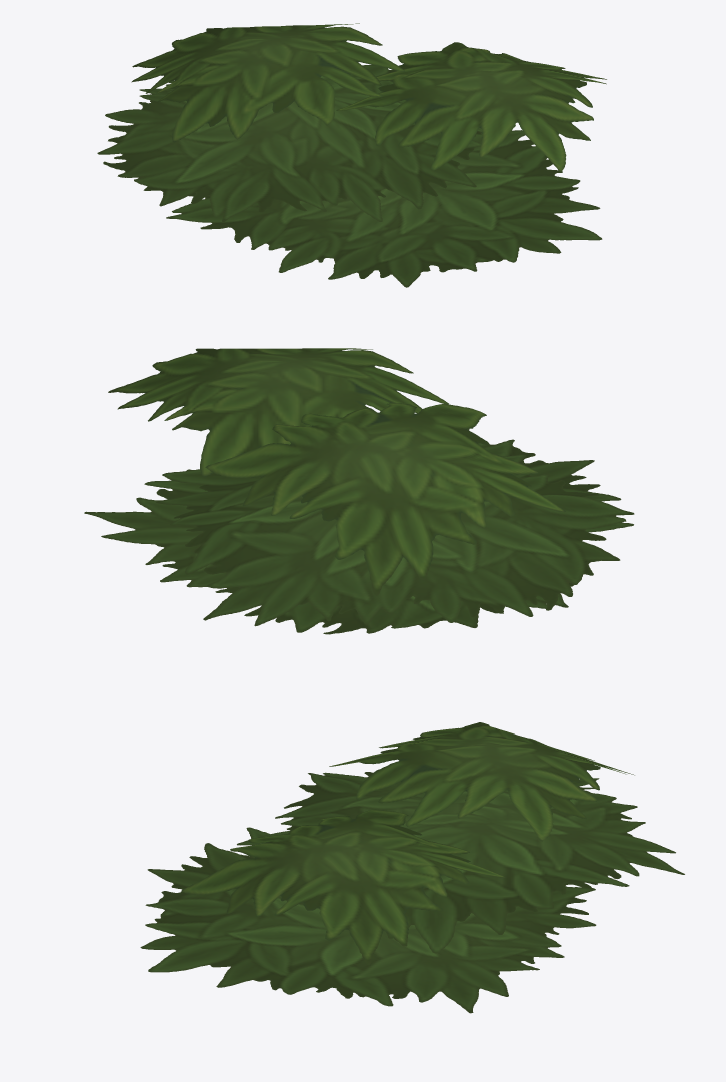
The model's file is Bush_2_2.fbx.
3 views of the same model, one above another, from view 1: azimuth 30°, elevation 25°; view 2: azimuth 150°, elevation 25°; view 3: azimuth 270°, elevation 25° (orthographic). The views are drawn at different scales.
Parts seen in each view (by area): view 1: Bush_2_2; view 2: Bush_2_2; view 3: Bush_2_2.
Boxes of the visible parts, x1,y1,x2,y2 form: Bush_2_2: [97, 23, 606, 287]; Bush_2_2: [84, 348, 634, 634]; Bush_2_2: [140, 722, 684, 1013].
Size of the model in its own units: 259 by 54.1 by 261.
